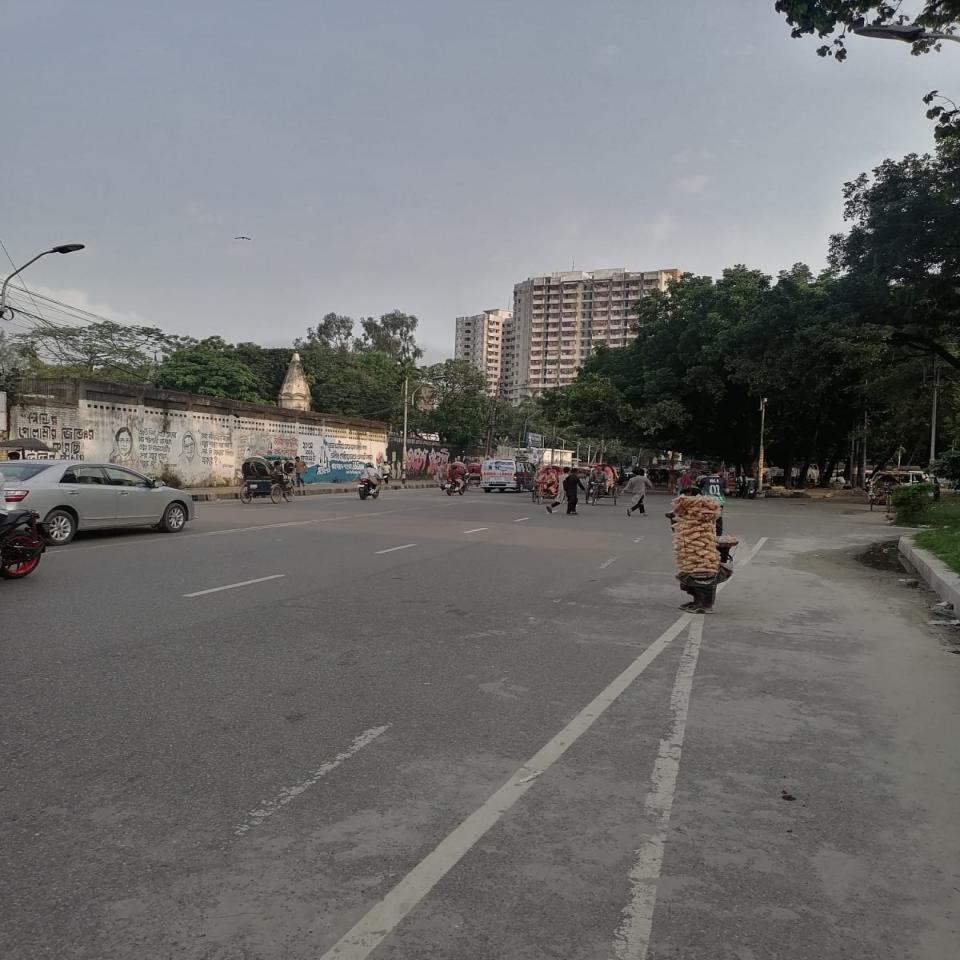person: (546, 467, 585, 516), (620, 469, 652, 517)
